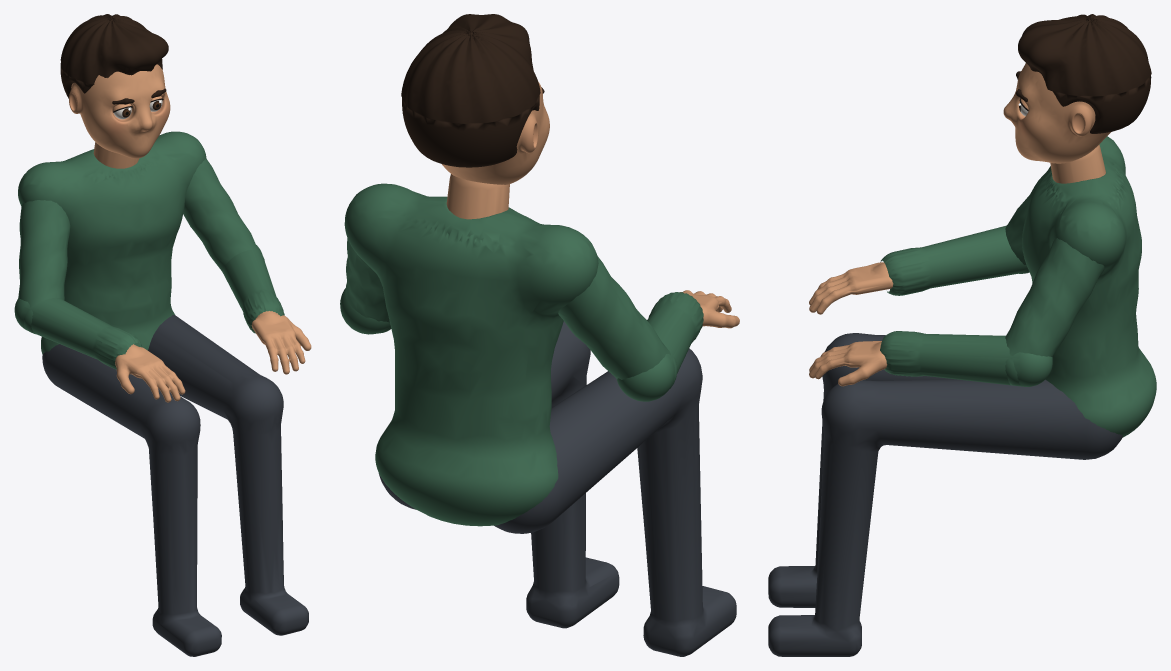
Rendered from adam.glb.
The picture shows the model from 3 angles, left to right: view 1: azimuth 30°, elevation 25°; view 2: azimuth 150°, elevation 25°; view 3: azimuth 270°, elevation 25°; orthographic projection. The views are drawn at different scales.
Parts seen in each view (by area): view 1: legs, torso, upper_arm (×2), forearm (×2), head_defined, hair_short, hand (×2), neck; view 2: torso, legs, hair_short, upper_arm (×2), forearm (×2), head_defined, neck, hand; view 3: legs, torso, forearm (×2), hair_short, upper_arm (×2), head_defined, hand (×2), neck.
Part boxes in pixels (left/top/right/bottom): legs: left=42, top=315, right=308, bottom=656; torso: left=18, top=131, right=206, bottom=354; upper_arm (×2): left=18, top=159, right=264, bottom=334; forearm (×2): left=14, top=245, right=284, bottom=369; head_defined: left=69, top=64, right=170, bottom=158; hair_short: left=60, top=14, right=168, bottom=98; hand (×2): left=115, top=311, right=311, bottom=402; neck: left=93, top=142, right=139, bottom=168; torso: left=344, top=183, right=598, bottom=526; legs: left=378, top=321, right=736, bottom=656; hair_short: left=401, top=14, right=540, bottom=167; upper_arm (×2): left=345, top=238, right=677, bottom=388; forearm (×2): left=340, top=288, right=703, bottom=401; head_defined: left=442, top=81, right=549, bottom=184; neck: left=446, top=174, right=509, bottom=219; hand: left=680, top=290, right=739, bottom=328; legs: left=768, top=333, right=1122, bottom=656; torso: left=1022, top=136, right=1156, bottom=437; forearm (×2): left=880, top=226, right=1052, bottom=386; hair_short: left=1018, top=14, right=1151, bottom=133; upper_arm (×2): left=1005, top=166, right=1104, bottom=385; head_defined: left=1003, top=63, right=1110, bottom=163; hand (×2): left=809, top=262, right=893, bottom=386; neck: left=1050, top=144, right=1105, bottom=183.
Bounding box in the file's own units: 0.7021 × 1.46 × 0.8432.
11 materials, 1 textured.
